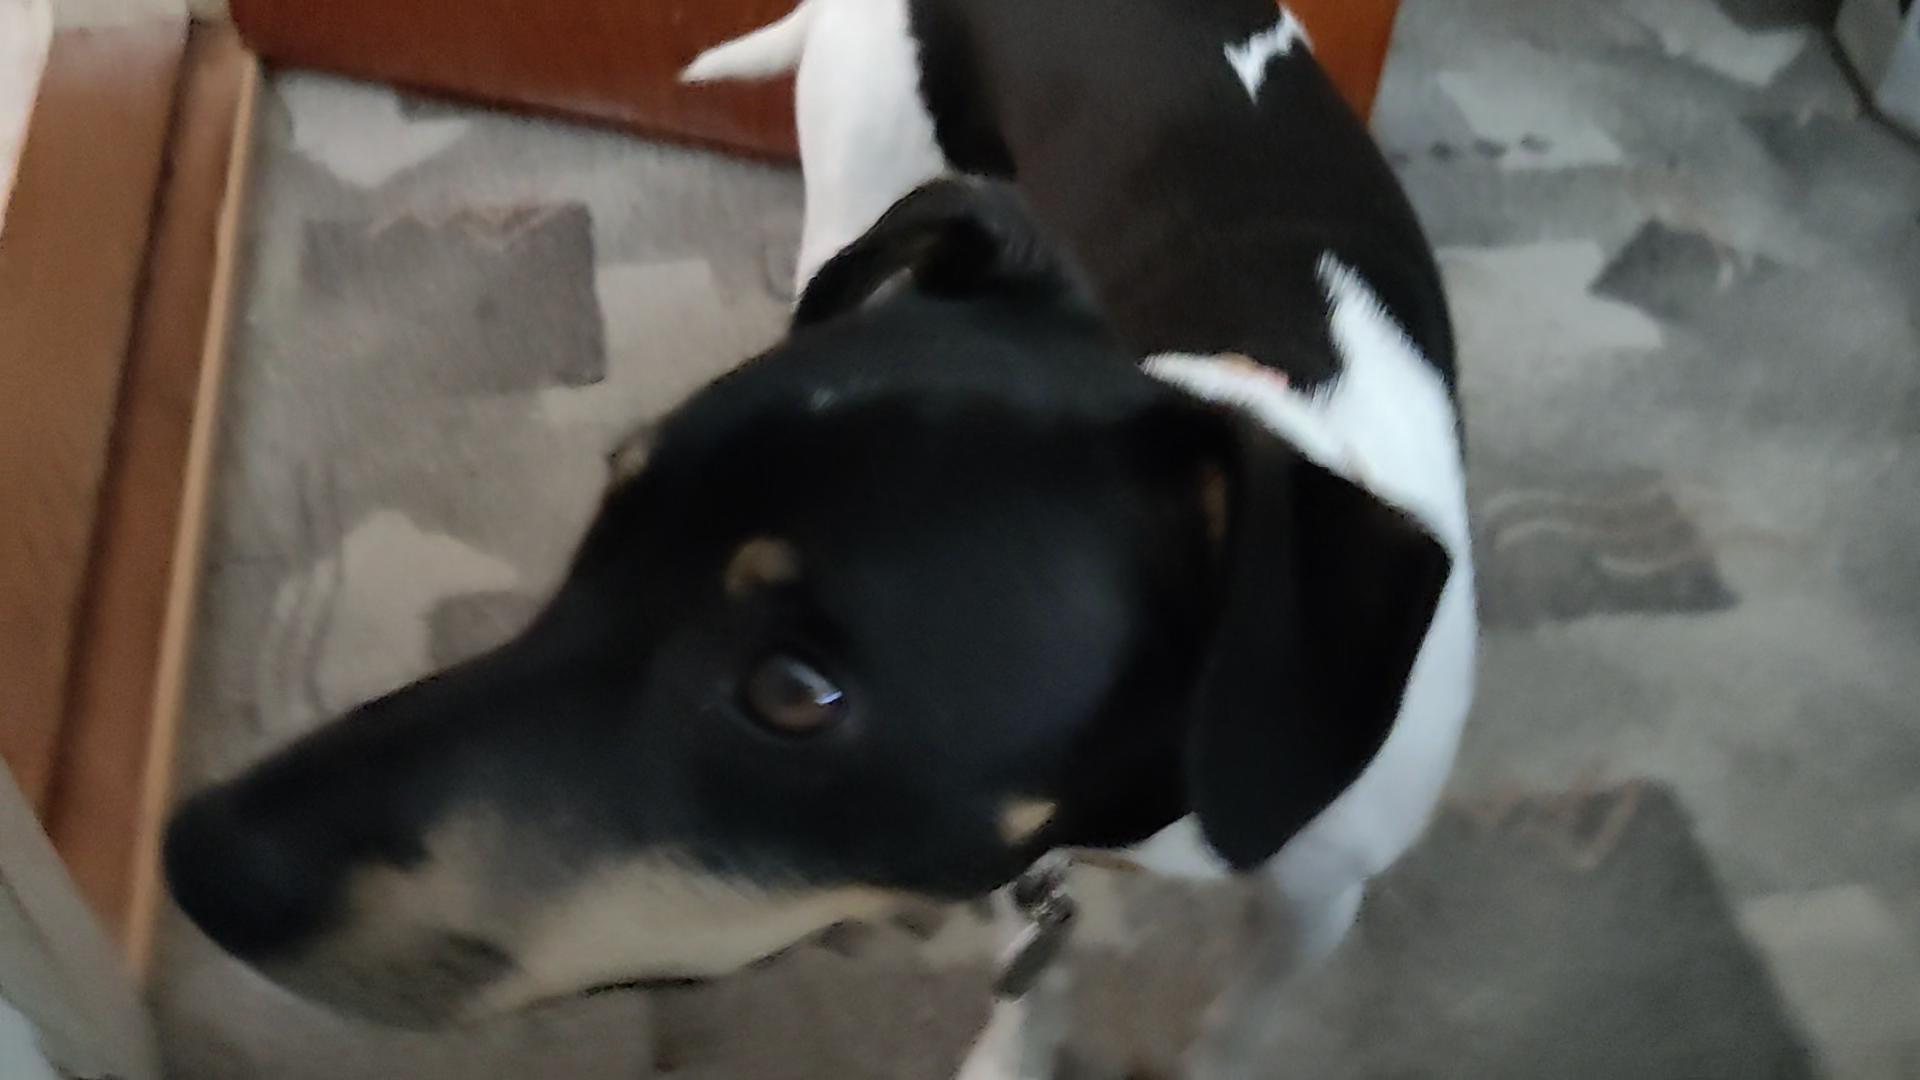Dog: (141, 0, 1509, 1079)
